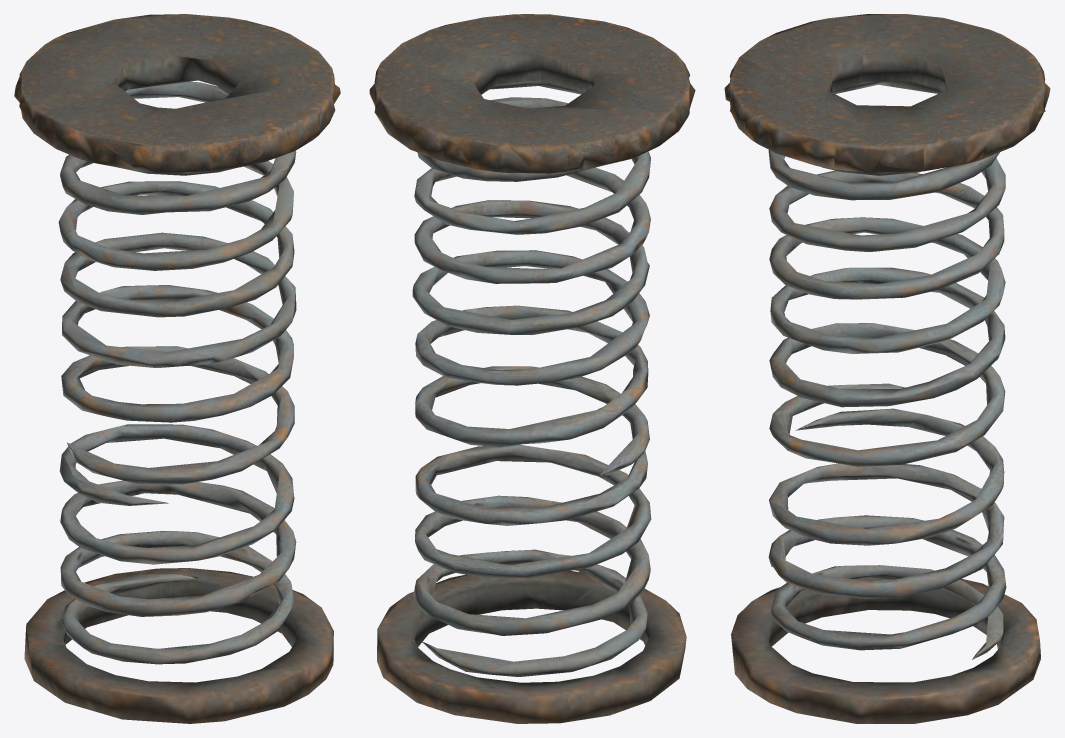
File: spring-pad.lod.glb
3 views of the same model, side by side, from view 1: azimuth 30°, elevation 25°; view 2: azimuth 150°, elevation 25°; view 3: azimuth 270°, elevation 25° (orthographic).
Size of the model in its own units: 0.9637 by 1.9 by 0.9667.
Materials: 1 (1 with a texture image).
